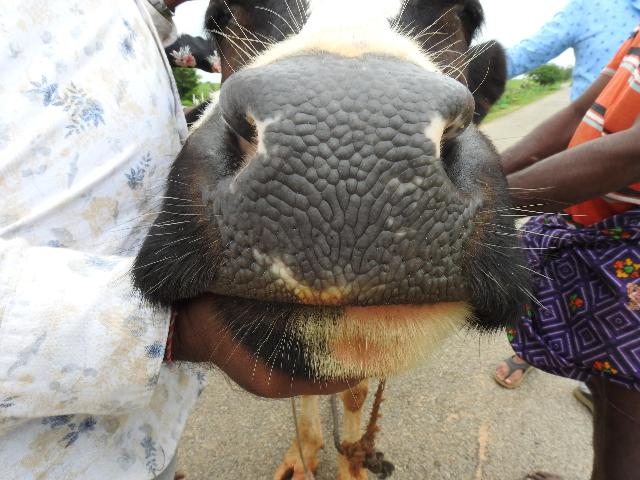Muzzle: (230, 70, 460, 288)
